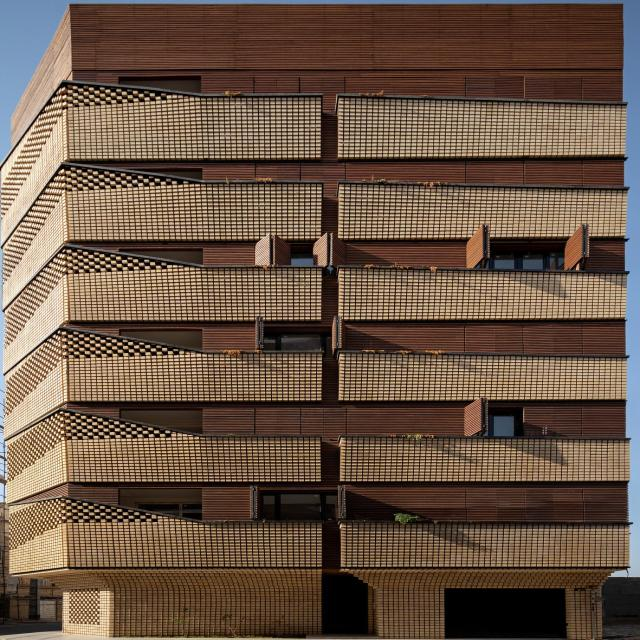door: (447, 586, 569, 635)
window: (266, 491, 336, 517), (138, 497, 203, 520), (491, 250, 565, 270), (270, 332, 322, 348), (489, 414, 520, 434), (291, 246, 321, 265)
